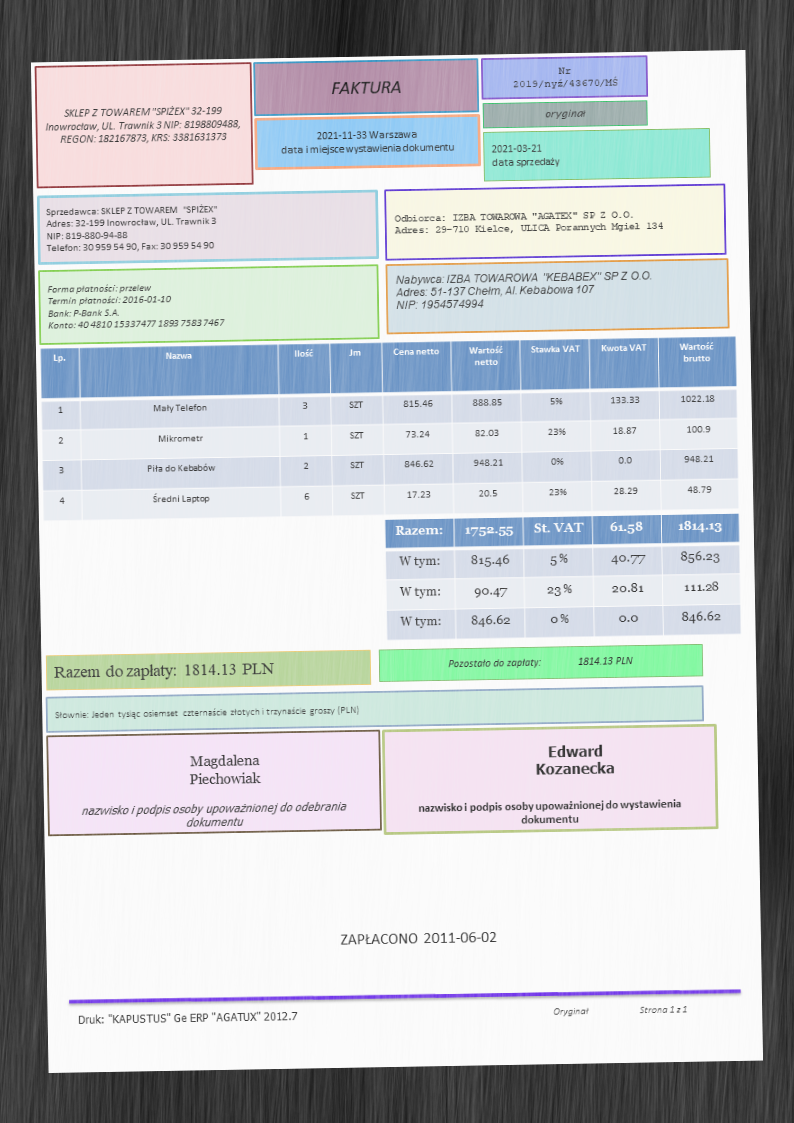Table: (37, 334, 741, 522), (383, 514, 744, 643)
TextBox: (390, 264, 658, 314), (44, 278, 227, 336), (415, 793, 686, 831), (391, 204, 668, 241), (42, 201, 220, 256), (41, 102, 245, 149), (77, 797, 351, 831), (49, 697, 364, 725), (49, 656, 274, 684), (277, 123, 457, 157), (72, 1006, 301, 1032), (336, 923, 504, 954), (445, 650, 638, 674), (532, 736, 618, 782), (510, 62, 622, 95), (185, 750, 263, 791), (549, 999, 690, 1019), (487, 137, 562, 174), (327, 75, 402, 99), (542, 107, 589, 123)
